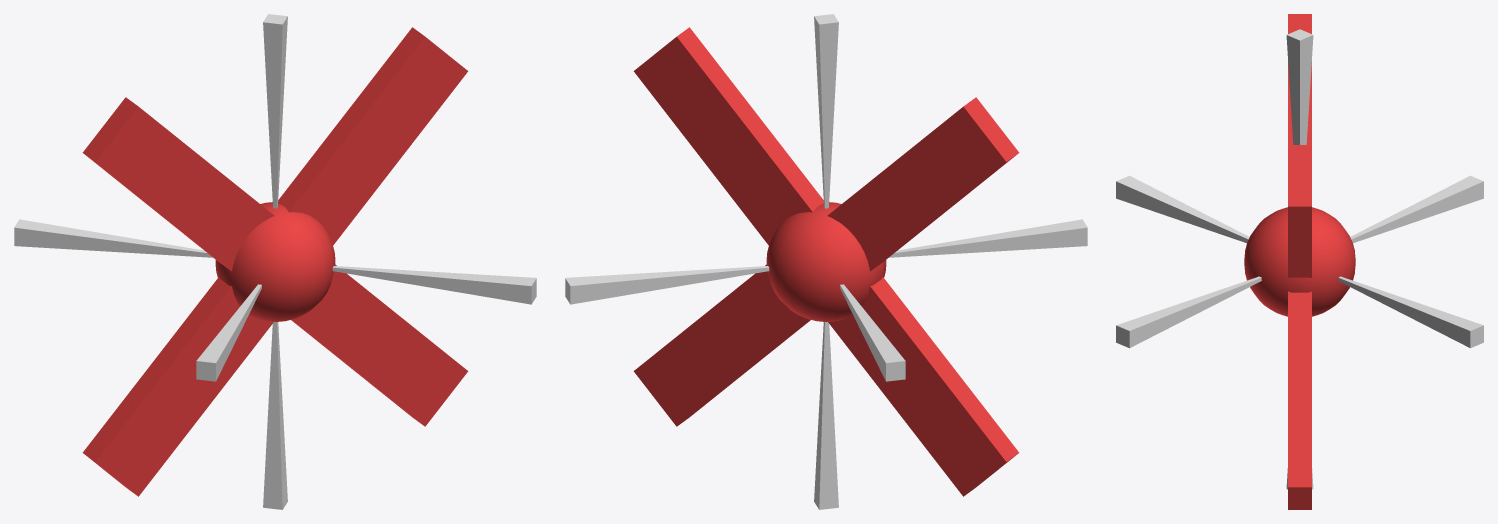
File: MeasurementTools.fbx
3 views of the same model, side by side, from view 1: azimuth 30°, elevation 25°; view 2: azimuth 150°, elevation 25°; view 3: azimuth 270°, elevation 25° (orthographic). The views are drawn at different scales.
Parts seen in each view (by area): view 1: Delete_obj, Measurement_obj; view 2: Delete_obj, Measurement_obj; view 3: Measurement_obj, Delete_obj.
Boxes of the visible parts, <box> form: Delete_obj: <box>82,27,468,496</box>; Measurement_obj: <box>14,14,536,509</box>; Delete_obj: <box>633,27,1019,496</box>; Measurement_obj: <box>565,14,1087,509</box>; Measurement_obj: <box>1116,29,1483,489</box>; Delete_obj: <box>1288,14,1311,509</box>.
Size of the model in its own units: 8.76 by 10.89 by 7.99.
